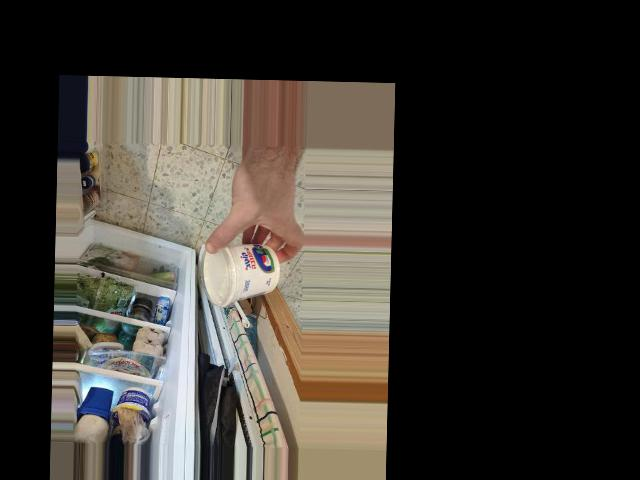cotage: (199, 230, 283, 310)
